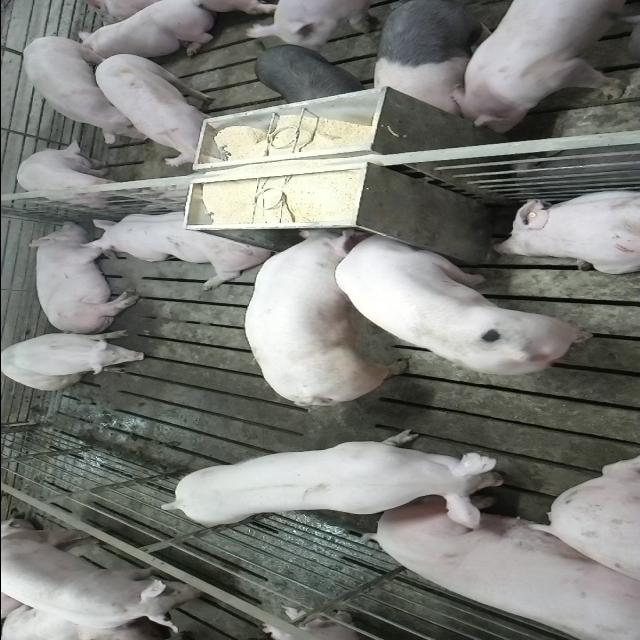Feeding: (332, 224, 594, 372), (242, 222, 404, 400)
Lateral_lying: (22, 222, 140, 336)
Sitting: (0, 331, 147, 391)
Standing: (154, 429, 512, 528), (448, 1, 640, 134), (0, 525, 213, 640), (371, 2, 518, 124), (90, 52, 226, 166), (18, 34, 148, 146), (242, 0, 402, 49), (14, 138, 130, 204), (253, 44, 365, 106)
Sternal_lying: (79, 208, 275, 288), (491, 186, 640, 272), (71, 3, 217, 60)
